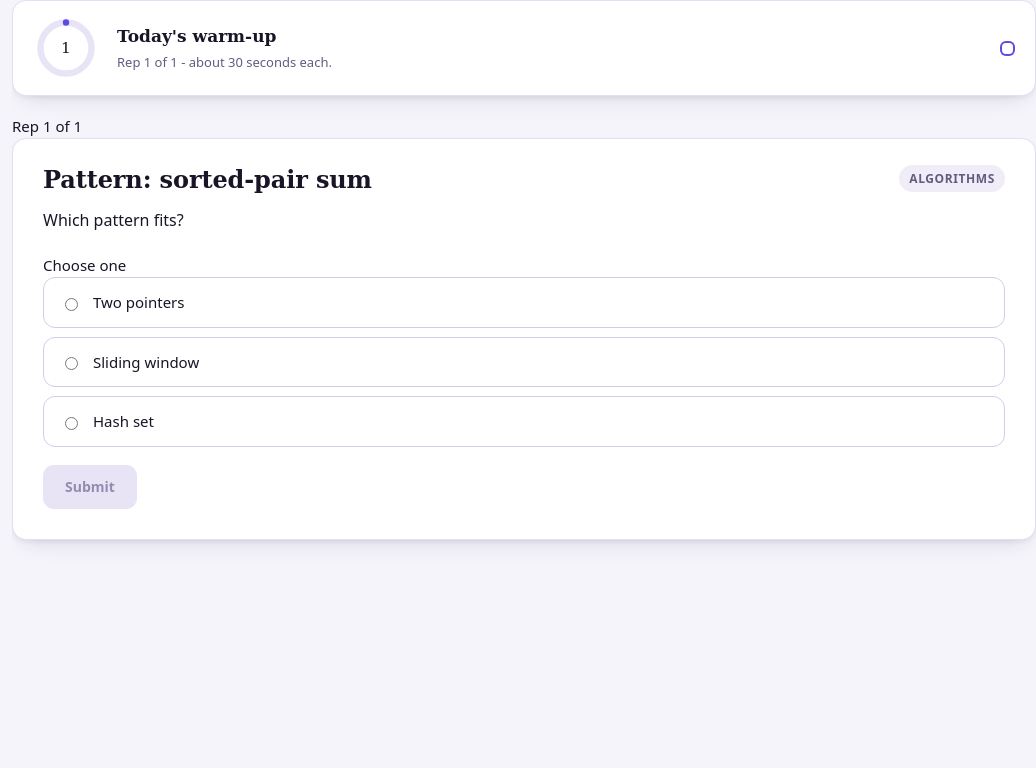
Test: Warmup › renders a choice rep and grades a correct answer without showing the explanation
The width and height of the screenshot is (1036, 768).
Expected: the heading "Pattern: sorted-pair sum" is shown, [43, 165, 372, 195]
Expected: the text "Rep 1 of 1" is shown, [12, 116, 82, 136]
Click the radio button labelled "Two pointers": (72, 304) [65, 298, 78, 311]
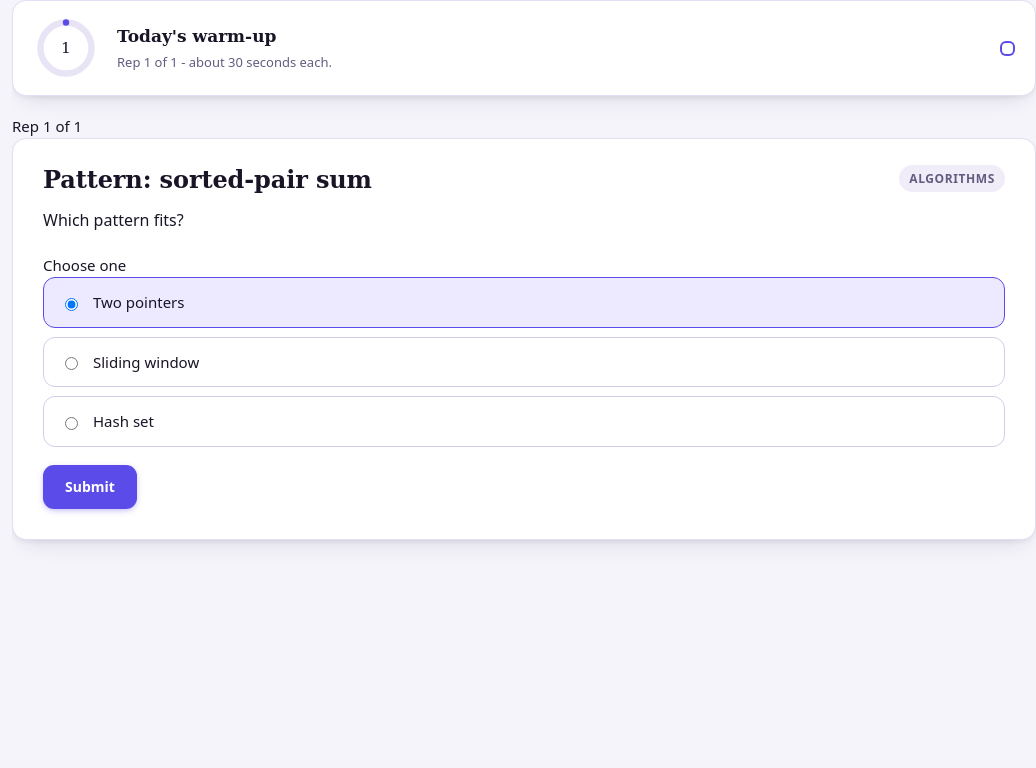
Click the button "Submit": (90, 487) [43, 465, 137, 509]
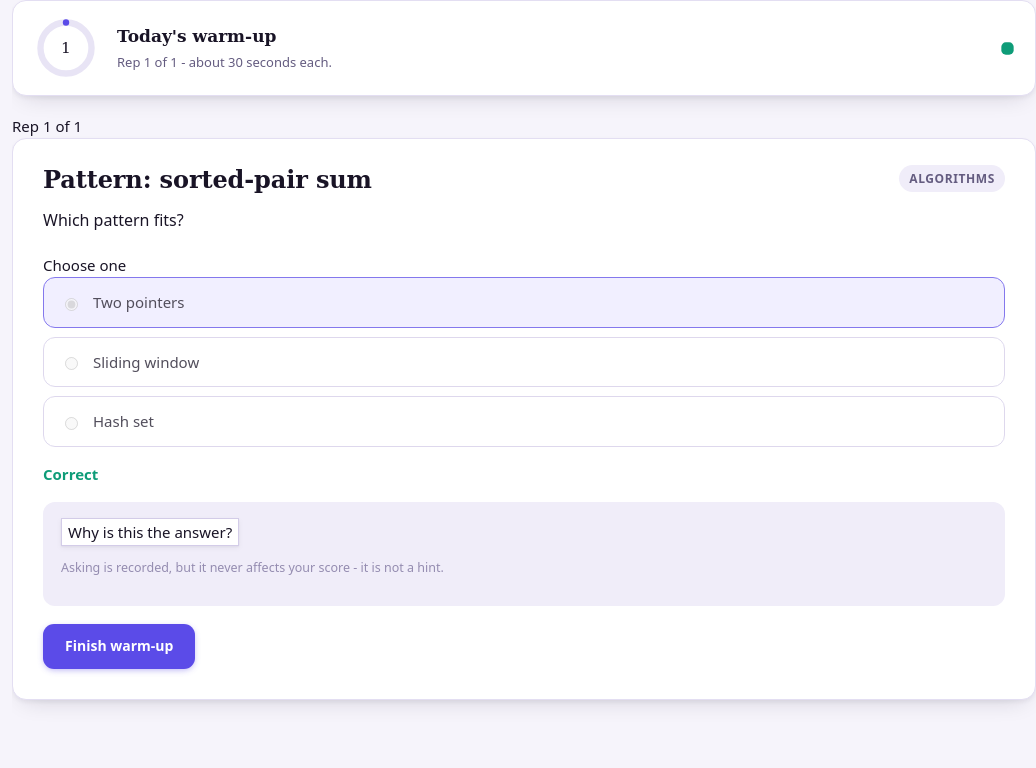
Expected: the text "two pointers are O(1)" is not shown
Expected: the text "Correct" is shown, [43, 464, 98, 484]
Click the button "Why is this the answer?": (150, 532) [61, 518, 239, 546]
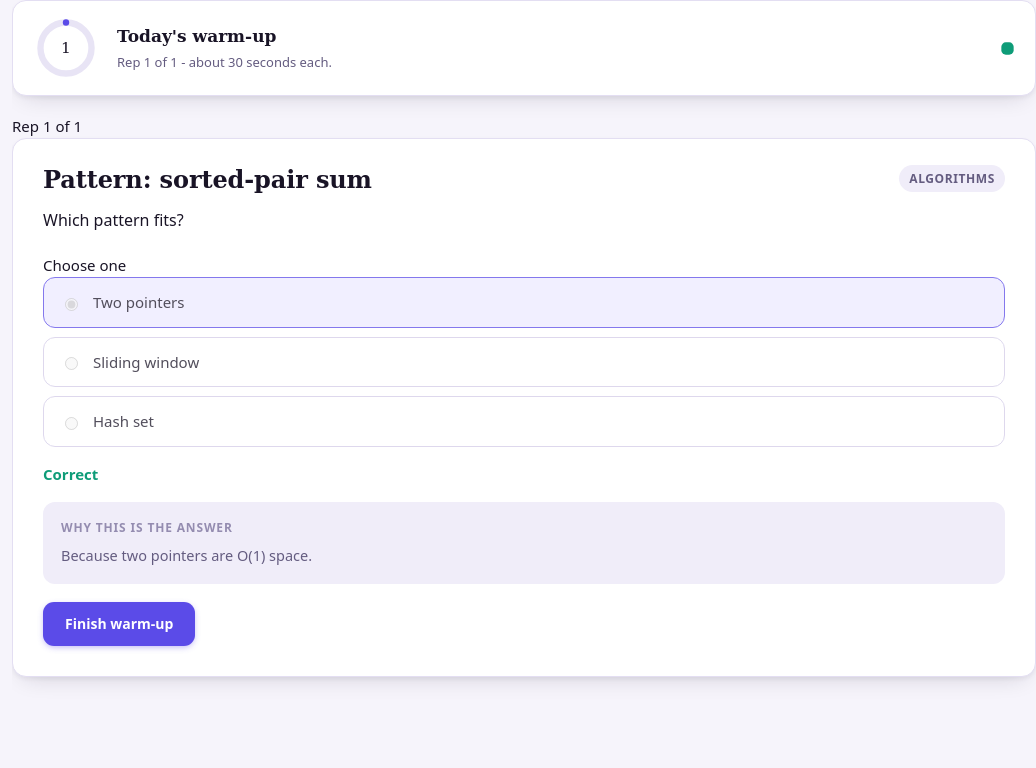
Expected: the text "Because two pointers are O(1) space." is shown, [61, 545, 312, 565]
